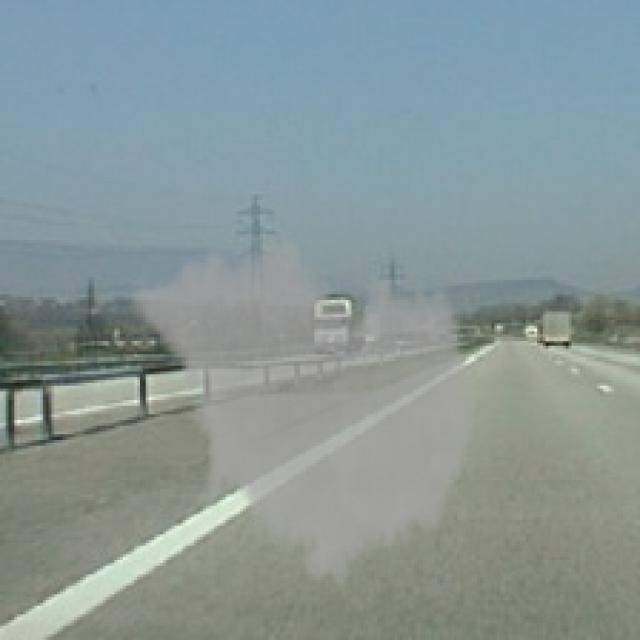Smoke: (128, 222, 480, 594)
